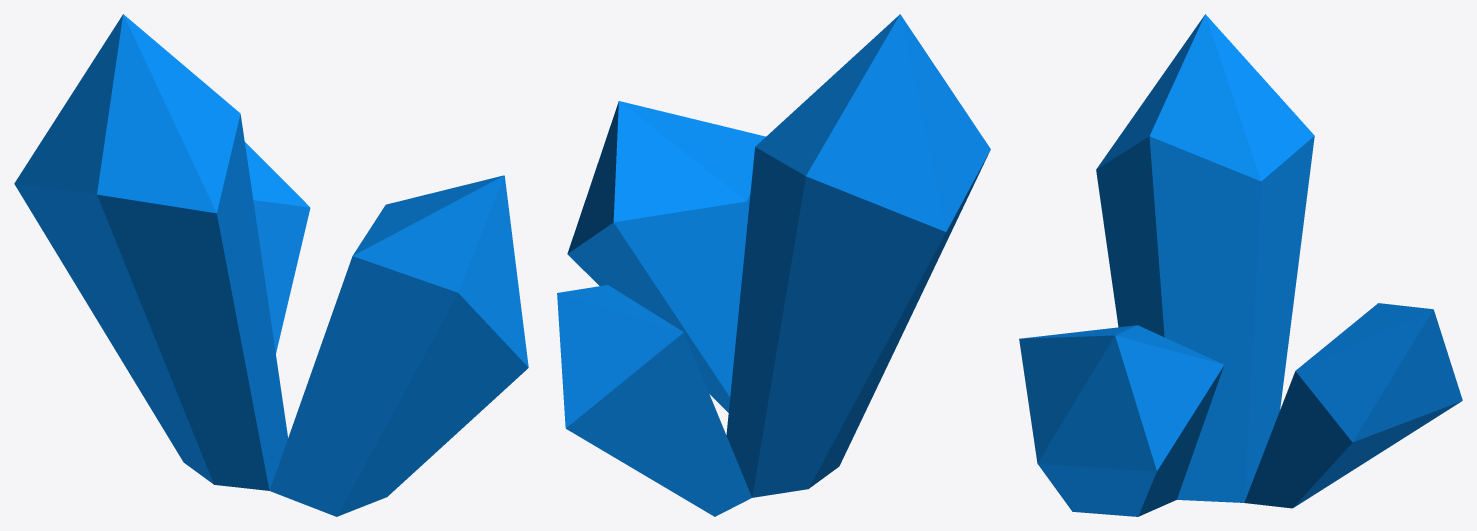
The model's file is Crystal-B06.fbx.
The picture shows the model from 3 angles, left to right: view 1: azimuth 30°, elevation 25°; view 2: azimuth 150°, elevation 25°; view 3: azimuth 270°, elevation 25°; orthographic projection. The views are drawn at different scales.
Visible parts, largest first — view 1: Crystal-B06; view 2: Crystal-B06; view 3: Crystal-B06.
Boxes of the visible parts, x1,y1,x2,y2 form: Crystal-B06: (14,14,528,516); Crystal-B06: (557,14,990,516); Crystal-B06: (1019,14,1462,516).
Bounding box in the file's own units: 76.35 × 80.94 × 76.69.
